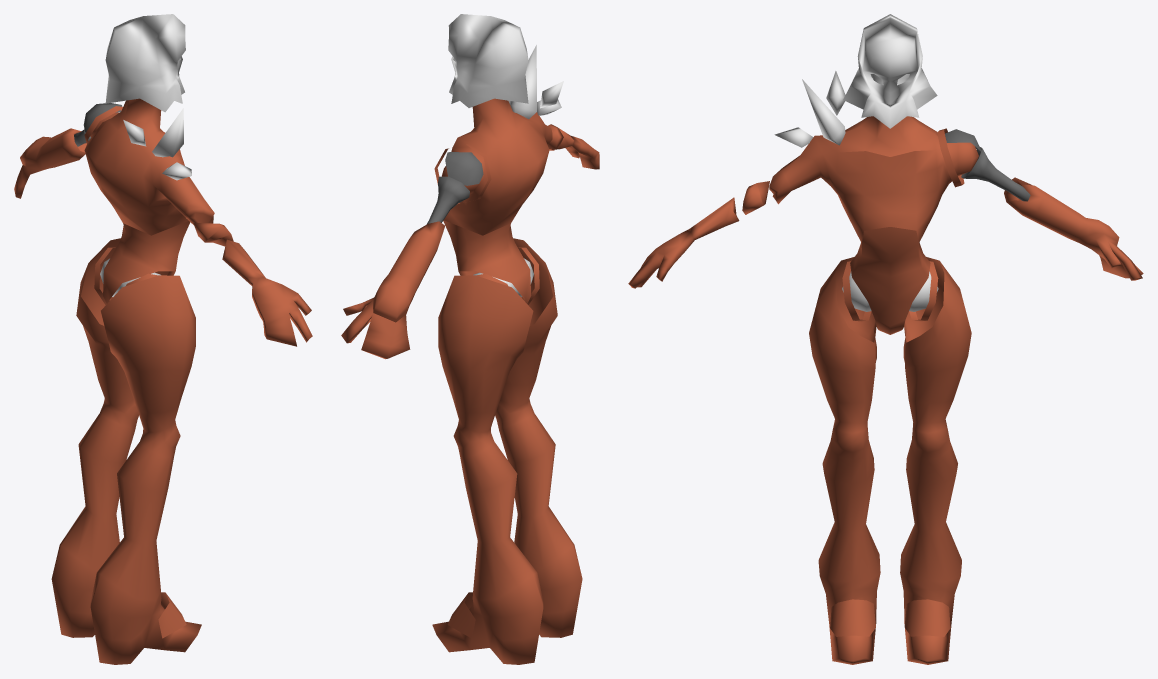
Rendered from Android_PlayerCharacter_v2 .fbx.
3 renders of one model, left to right at view 1: azimuth 30°, elevation 25°; view 2: azimuth 150°, elevation 25°; view 3: azimuth 270°, elevation 25°, orthographic. The views are drawn at different scales.
Parts seen in each view (by area): view 1: Leg_R, Torso, Leg_L, Head, Arm_Lower_L, Shard_1, Arm_Upper_L; view 2: Leg_L, Leg_R, Torso, Head, Arm_Lower_L, Arm_Upper_L, Shard_1; view 3: Torso, Leg_R, Leg_L, Head, Arm_Lower_L, Arm_Upper_L, Shard_1, Hip.
Part boxes in pixels (x1,y1,x2,y2): Leg_R: (90,273,201,664); Torso: (84,98,312,346); Leg_L: (51,238,138,637); Head: (105,14,185,112); Arm_Lower_L: (14,128,86,198); Shard_1: (152,108,183,157); Arm_Upper_L: (74,103,122,146); Leg_L: (432,273,543,664); Leg_R: (495,238,582,637); Torso: (434,98,599,303); Head: (448,14,528,107); Arm_Lower_L: (341,221,444,359); Arm_Upper_L: (426,152,483,224); Shard_1: (508,45,536,119); Torso: (628,116,978,334); Leg_R: (809,257,880,664); Leg_L: (900,257,971,664); Head: (843,14,937,128); Arm_Lower_L: (1004,177,1143,280); Arm_Upper_L: (945,129,1030,201); Shard_1: (802,79,845,145); Hip: (842,271,938,311).
Bounding box in the file's own units: 90.57 × 416 × 306.
